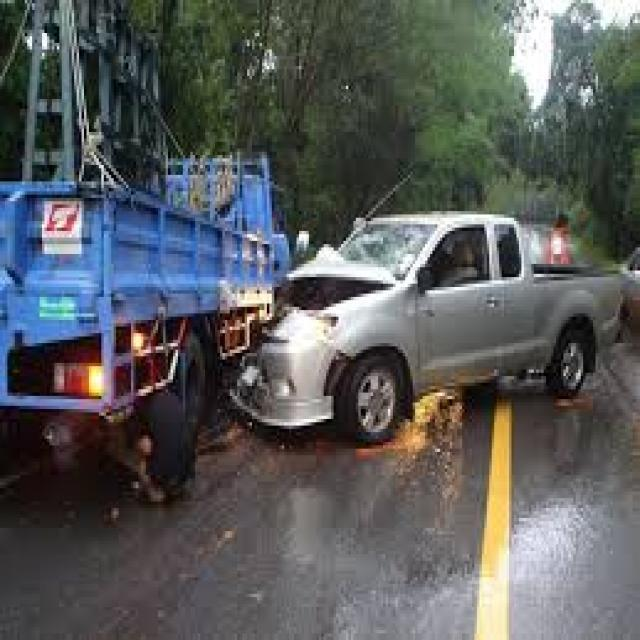accident: (0, 138, 596, 512)
